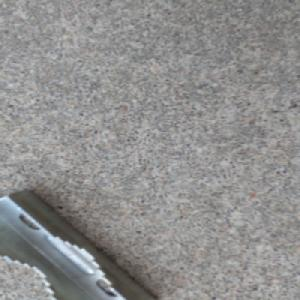ClampPart: (0, 188, 158, 300)
